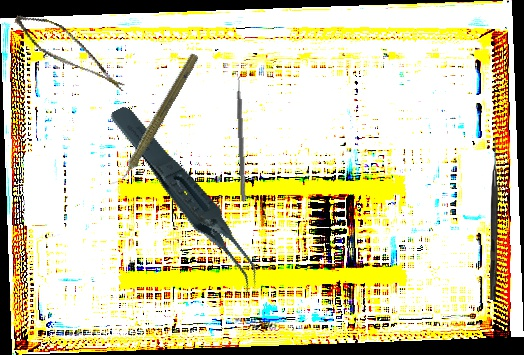Handpiece: (108, 49, 202, 194)
Hook Surgical: (490, 138, 498, 300)
Micro Scissor: (5, 8, 138, 92)
Spatula Surgical: (234, 74, 252, 201)
Tissue Forceps: (107, 85, 264, 315)
